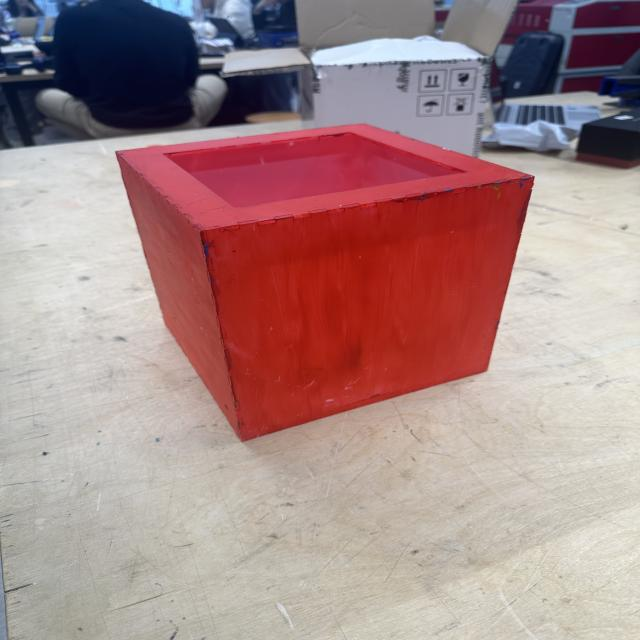red_bin: (113, 125, 535, 444)
